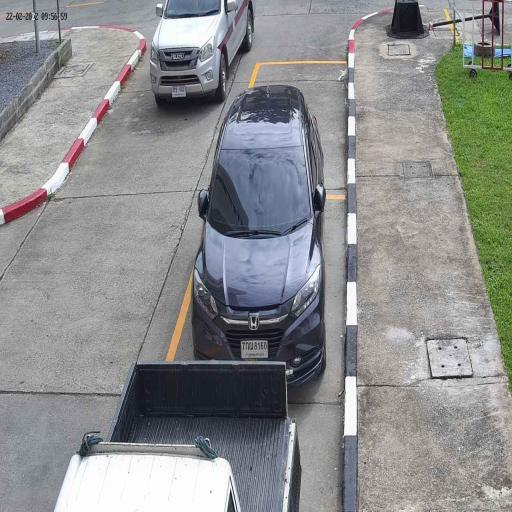car: (190, 84, 327, 390), (53, 361, 302, 512), (150, 0, 257, 105)
